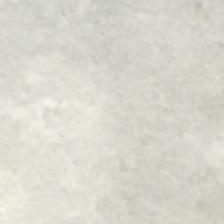Non_Crack: (27, 27, 190, 214)
